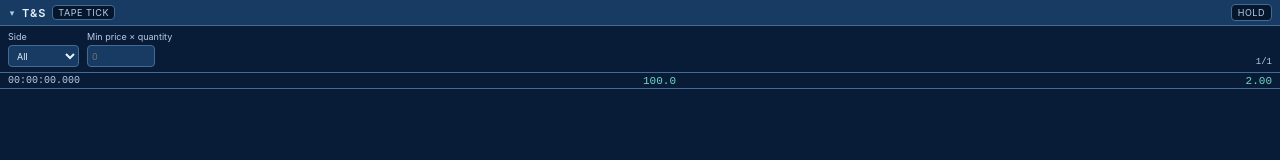
Test case: Tape render › collapses the body via the header chevron
The image size is (1280, 160).
Expected: the element with test id "tape-body" is shown, top-left (0, 73), bottom-right (1279, 89)
Click the button with test id "tape-collapse". click: (27, 12)
box: top-left (8, 6), bottom-right (46, 20)
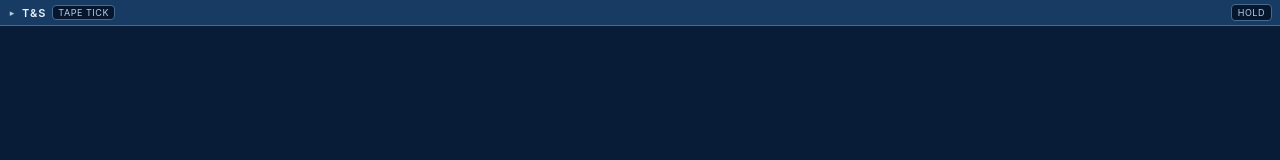
Result: the element with test id "tape-body" is gone
